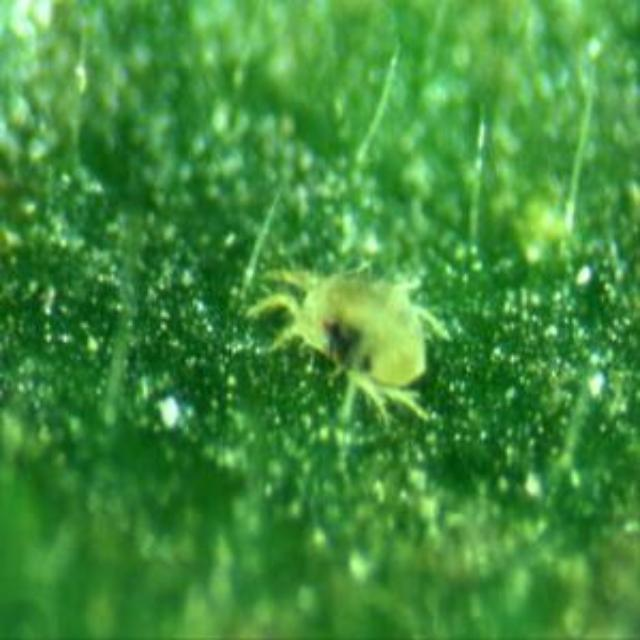spider mite: (204, 207, 476, 458)
